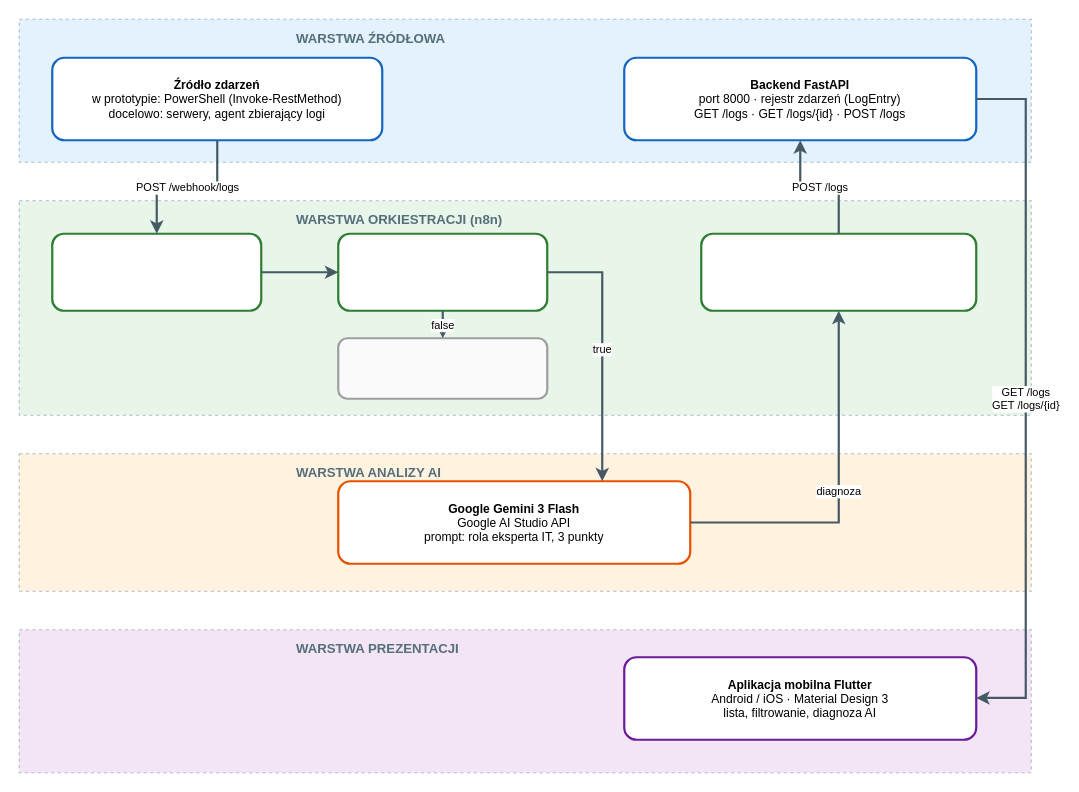
Some shapes in this 1079 by 792 pixel diagram are drawn without their labels. Here are the shapes that lost their labels. From the top down, the centre of each, then its label:
At (156,271): "Webhook POST /webhook/logs odbiór zdarzenia (JSON)".
At (442,271): "IF filtr poziomu ważności ERROR OR CRITICAL".
At (838,271): "HTTP Request POST host.docker.internal:8000/logs zdarzenie + diagnoza".
At (442,368): "Gałąź false INFO, WARNING — bez modelu".
